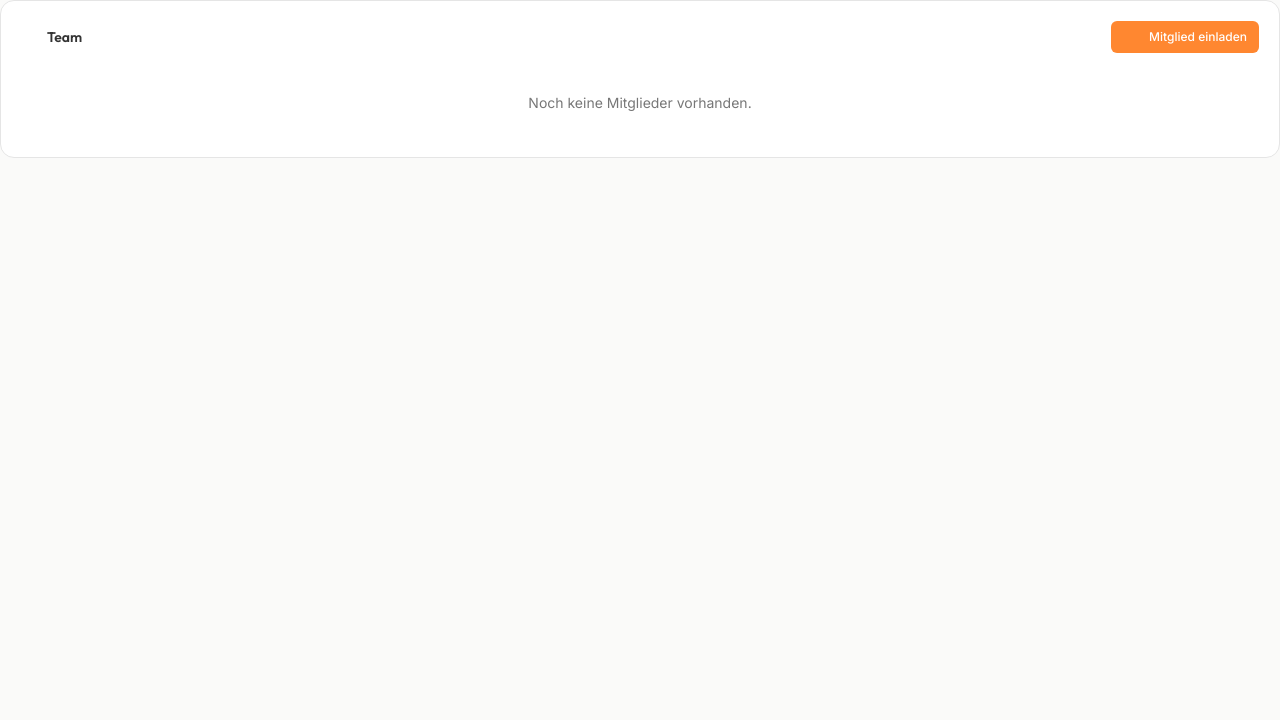
Test: TeamSection › opens invite dialog on button click
Click the button "Mitglied einladen" at (1185, 37), box [1111, 21, 1259, 53]
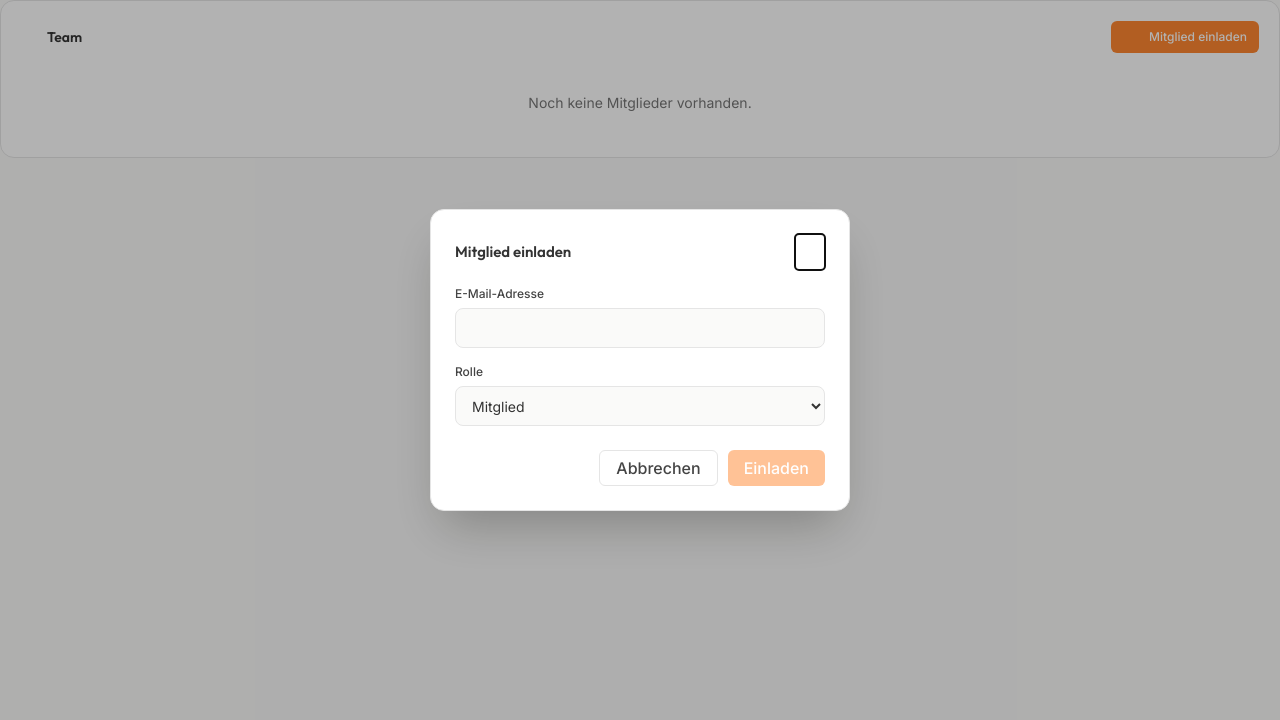
Now the heading "Mitglied einladen" is shown, box [455, 241, 571, 263]
